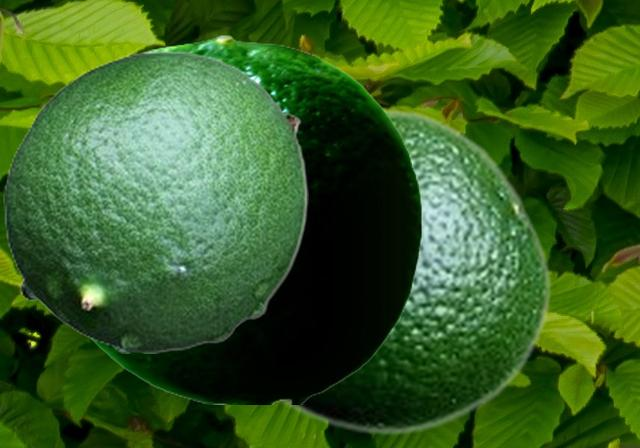calamansi: (87, 34, 421, 403), (3, 50, 307, 352), (275, 107, 552, 436)
